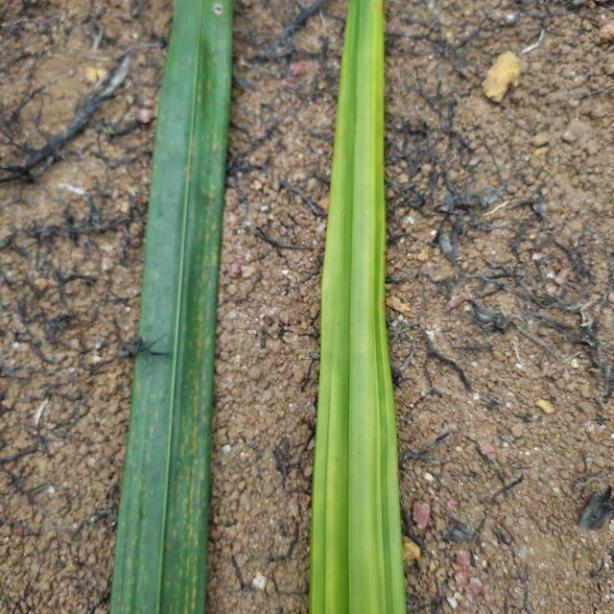nitrogen: (106, 0, 235, 614), (306, 0, 410, 614)
